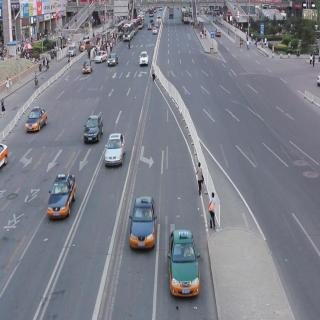Car: (167, 219, 200, 305), (132, 186, 157, 257), (46, 166, 78, 220), (106, 124, 124, 176), (83, 110, 105, 148), (28, 102, 49, 136), (138, 50, 150, 71), (83, 53, 93, 75), (96, 46, 106, 65), (109, 53, 118, 66)
